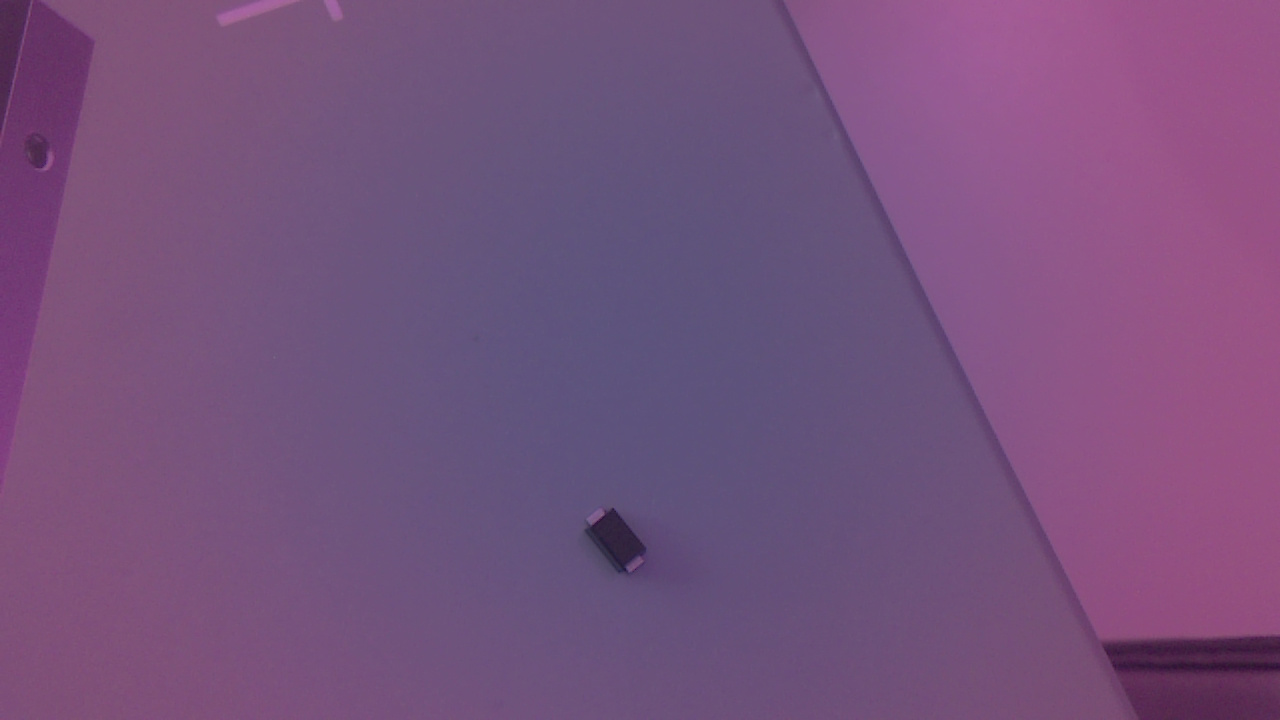Diode: (579, 509, 663, 583)
